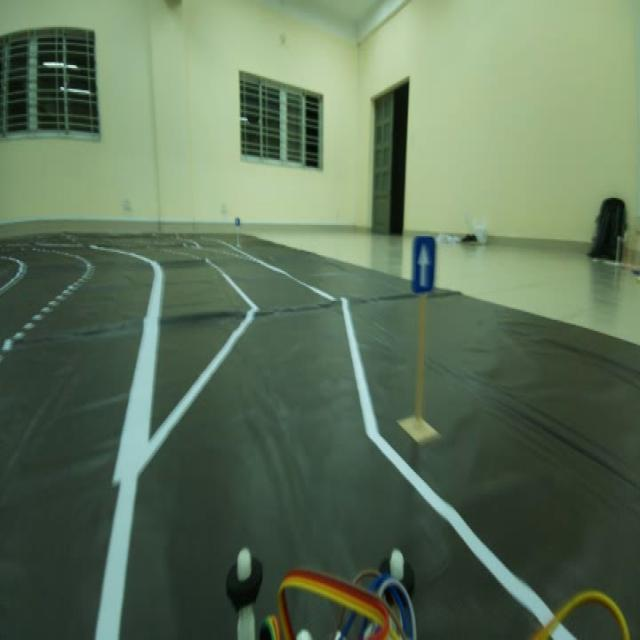onewayroad: (408, 231, 435, 293)
